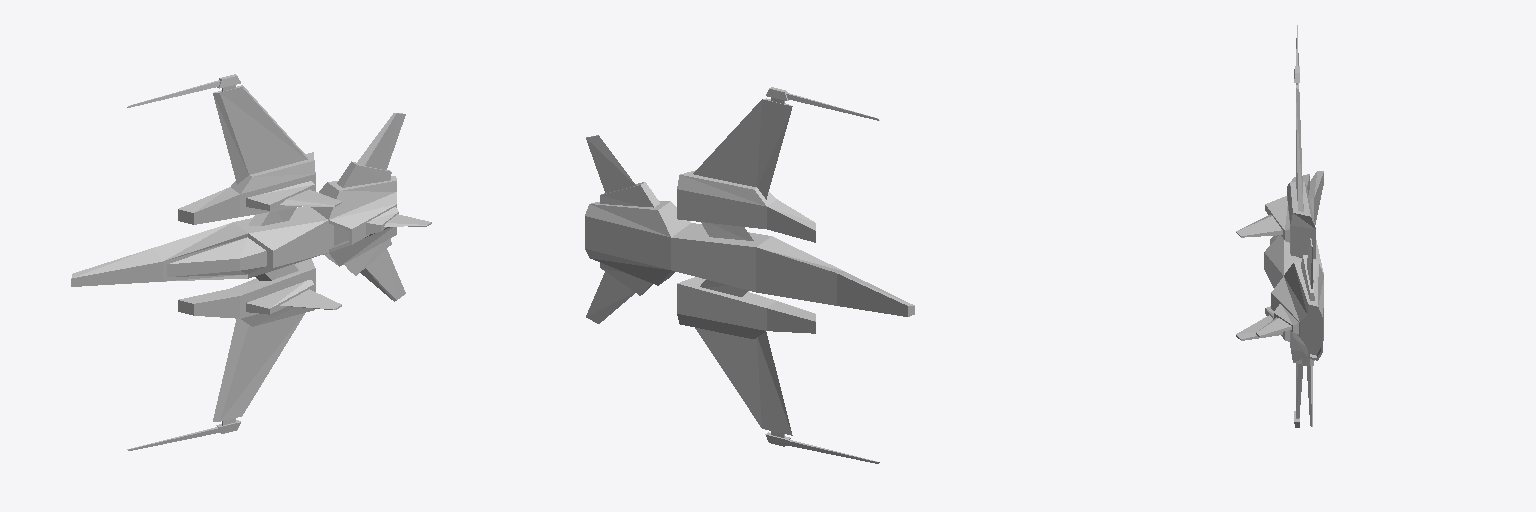
Rendered from fighter.obj.
3 renders of one model, left to right at view 1: azimuth 30°, elevation 25°; view 2: azimuth 150°, elevation 25°; view 3: azimuth 270°, elevation 25°, orthographic.
Visible parts, largest first — view 1: dark_fight; view 2: dark_fight; view 3: dark_fight.
Boxes of the visible parts, x1,y1,x2,y2 form: dark_fight: [71, 74, 431, 450]; dark_fight: [585, 87, 914, 463]; dark_fight: [1236, 25, 1323, 427].
Bounding box in the file's own units: 5.66 × 5.78 × 1.31.